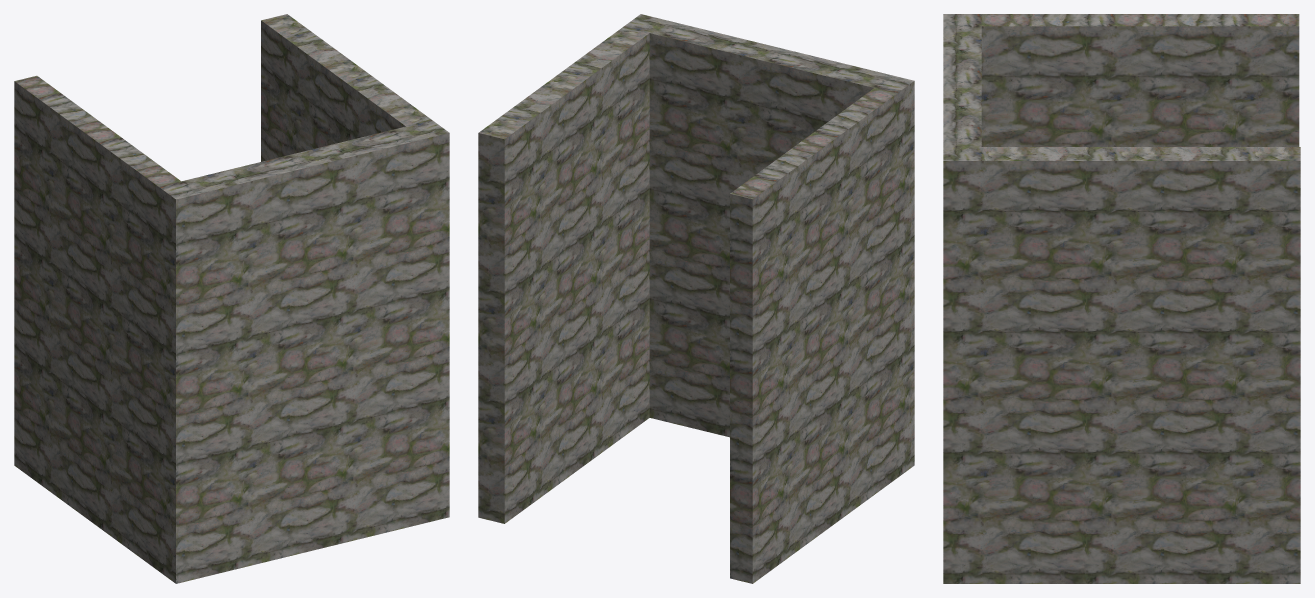
File: TopPlatformEdge.fbx
3 renders of one model, left to right at view 1: azimuth 30°, elevation 25°; view 2: azimuth 150°, elevation 25°; view 3: azimuth 270°, elevation 25°, orthographic. The views are drawn at different scales.
Visible parts, largest first — view 1: TopPlatformEdge; view 2: TopPlatformEdge; view 3: TopPlatformEdge.
Boxes of the visible parts, x1=… form: TopPlatformEdge: x1=14, y1=14, x2=449, y2=583; TopPlatformEdge: x1=478, y1=14, x2=914, y2=583; TopPlatformEdge: x1=943, y1=14, x2=1300, y2=583.
Size of the model in its own units: 521 by 700 by 536.
Materials: 1 (1 with a texture image).
